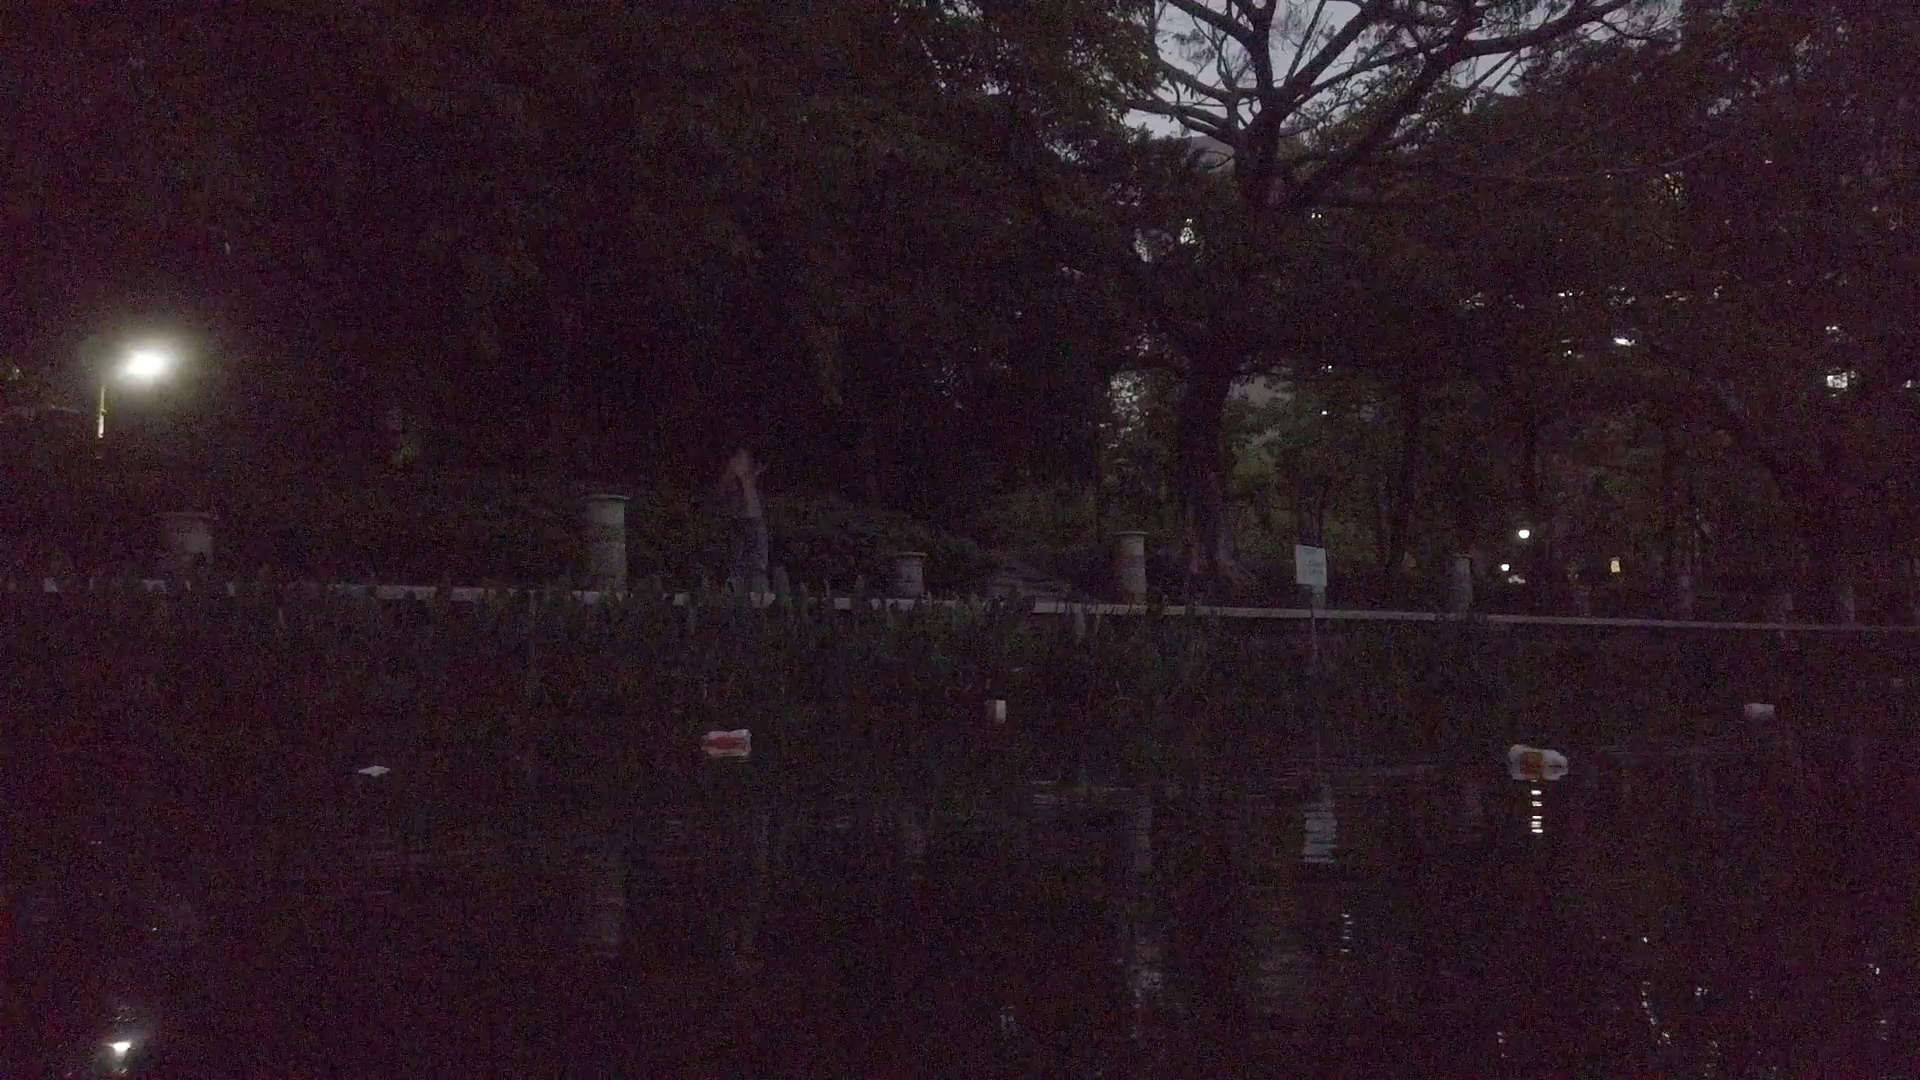bottle: (1510, 741, 1575, 773), (704, 729, 752, 749), (1745, 702, 1774, 715)
carton: (989, 699, 1010, 719)
paper: (356, 765, 392, 775)
